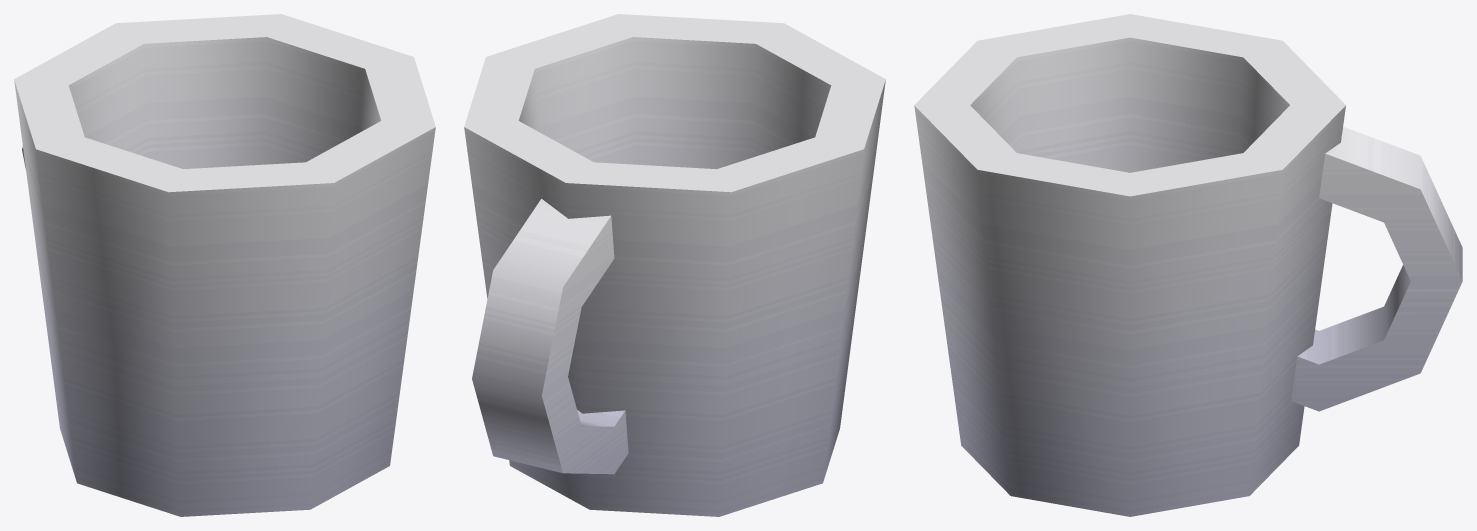
Rendered from kf_cup.glb.
3 views of the same model, side by side, from view 1: azimuth 30°, elevation 25°; view 2: azimuth 150°, elevation 25°; view 3: azimuth 270°, elevation 25° (orthographic).
Parts seen in each view (by area): view 1: cup; view 2: cup; view 3: cup.
Part boxes in pixels (bbox=[...]): cup: bbox=[14, 14, 435, 516]; cup: bbox=[464, 14, 885, 516]; cup: bbox=[914, 14, 1462, 516].
Size of the model in its own units: 0.067 by 0.0583 by 0.0851.
1 material, 1 textured.
